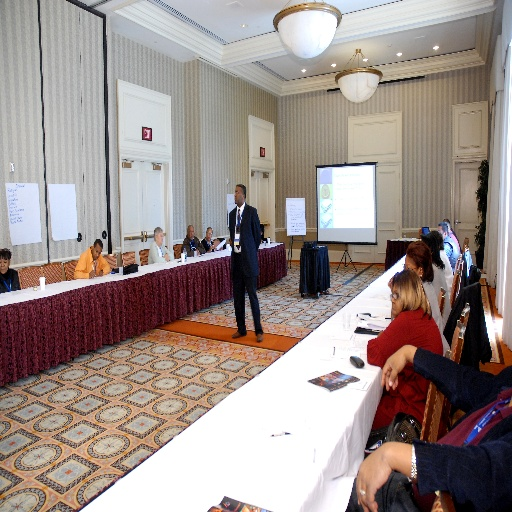hand: (355, 443, 391, 511), (381, 346, 408, 393), (89, 269, 94, 278), (97, 270, 101, 276)
